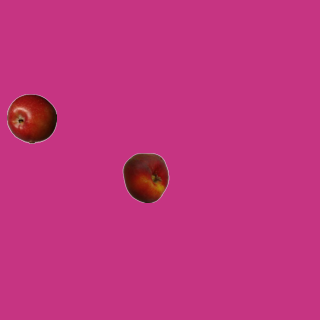Apple Braeburn: (6, 93, 56, 143)
Nectarine Flat: (120, 152, 170, 202)
